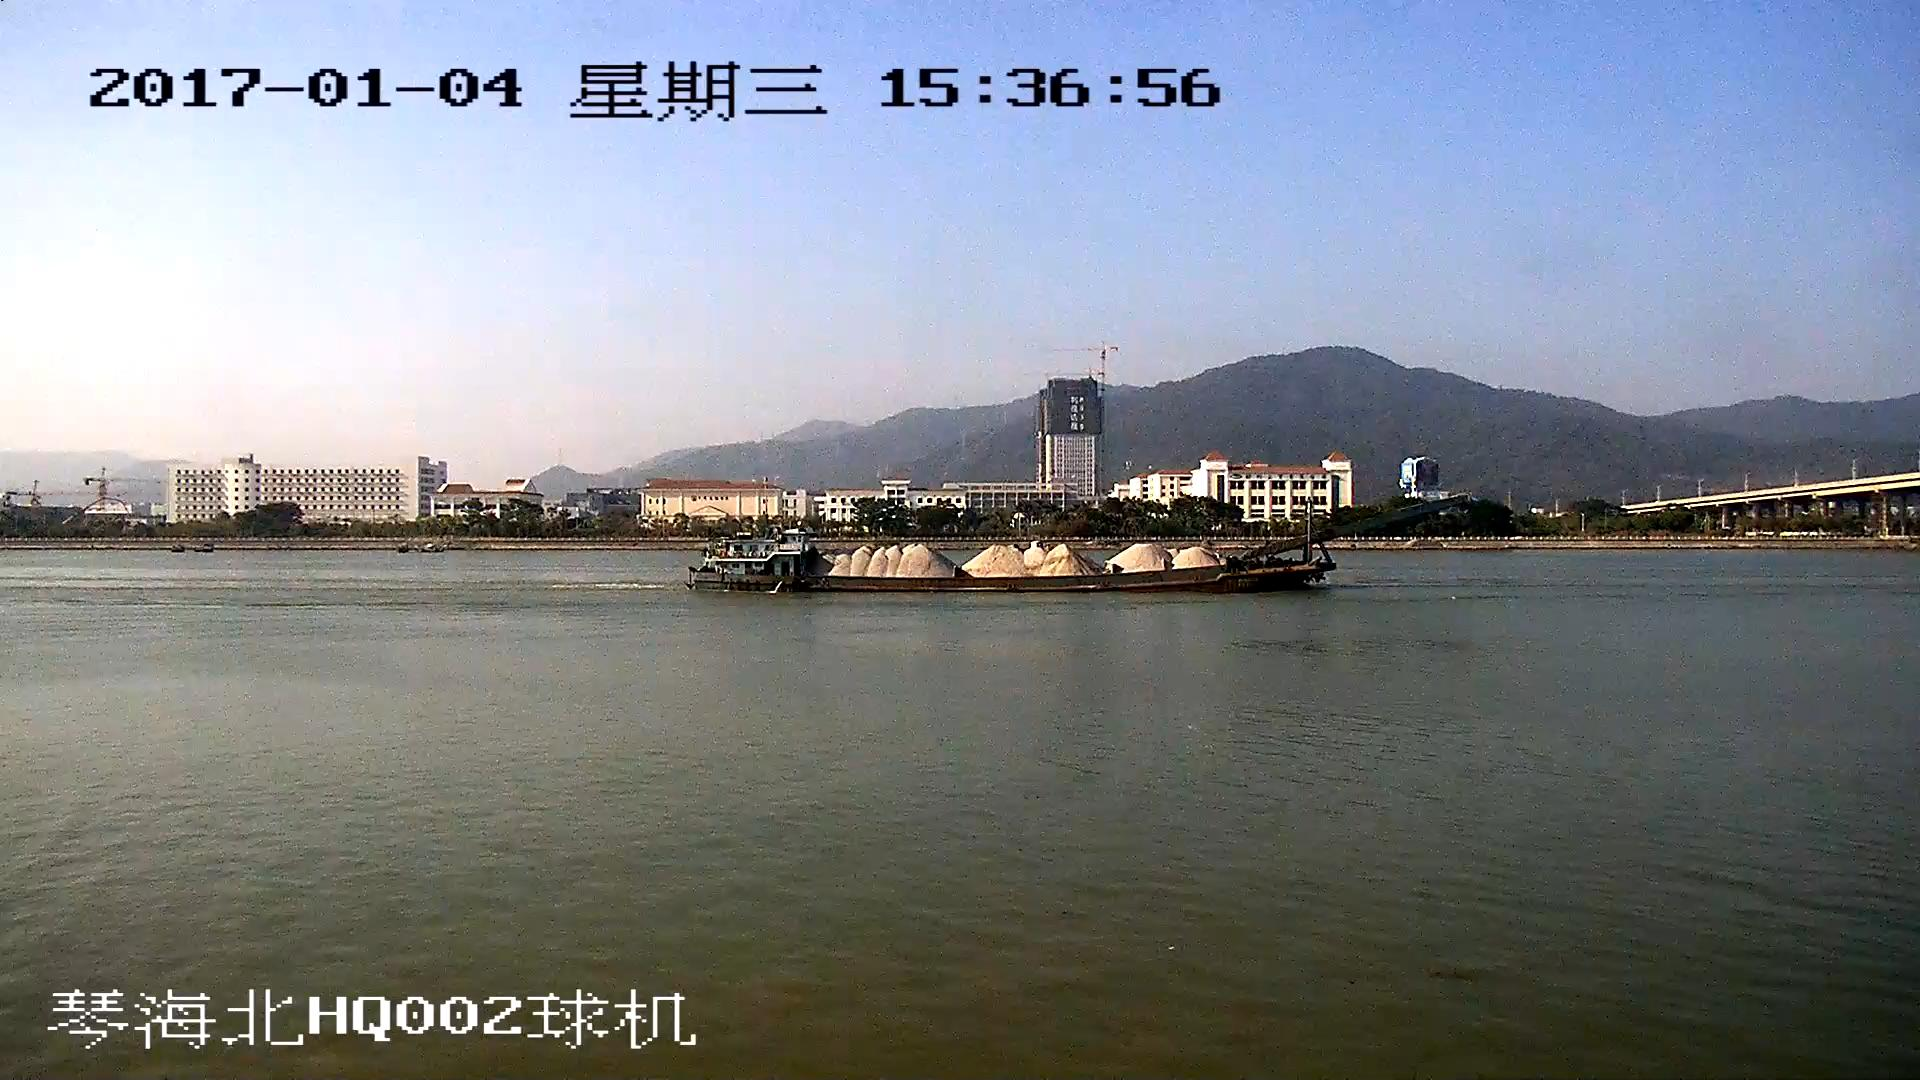ore carrier: (687, 495, 1472, 592)
